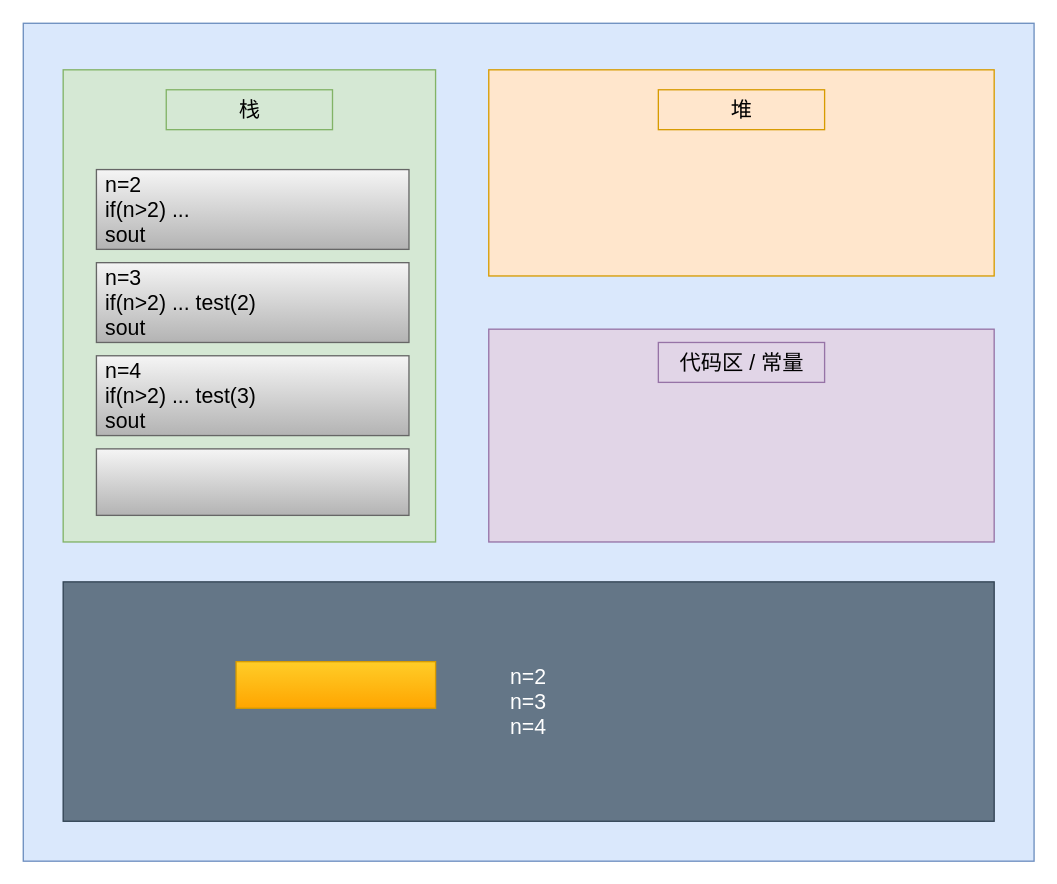
Some shapes in this 1057 by 884 pixel diagram are drawn without their labels. The box of each missing label's shape, as (x1, y1, x2, y2) in pixels:
main[栈] test(4) //退出程序: (95, 448, 409, 515)
根据先进后出原则: (235, 660, 436, 708)
